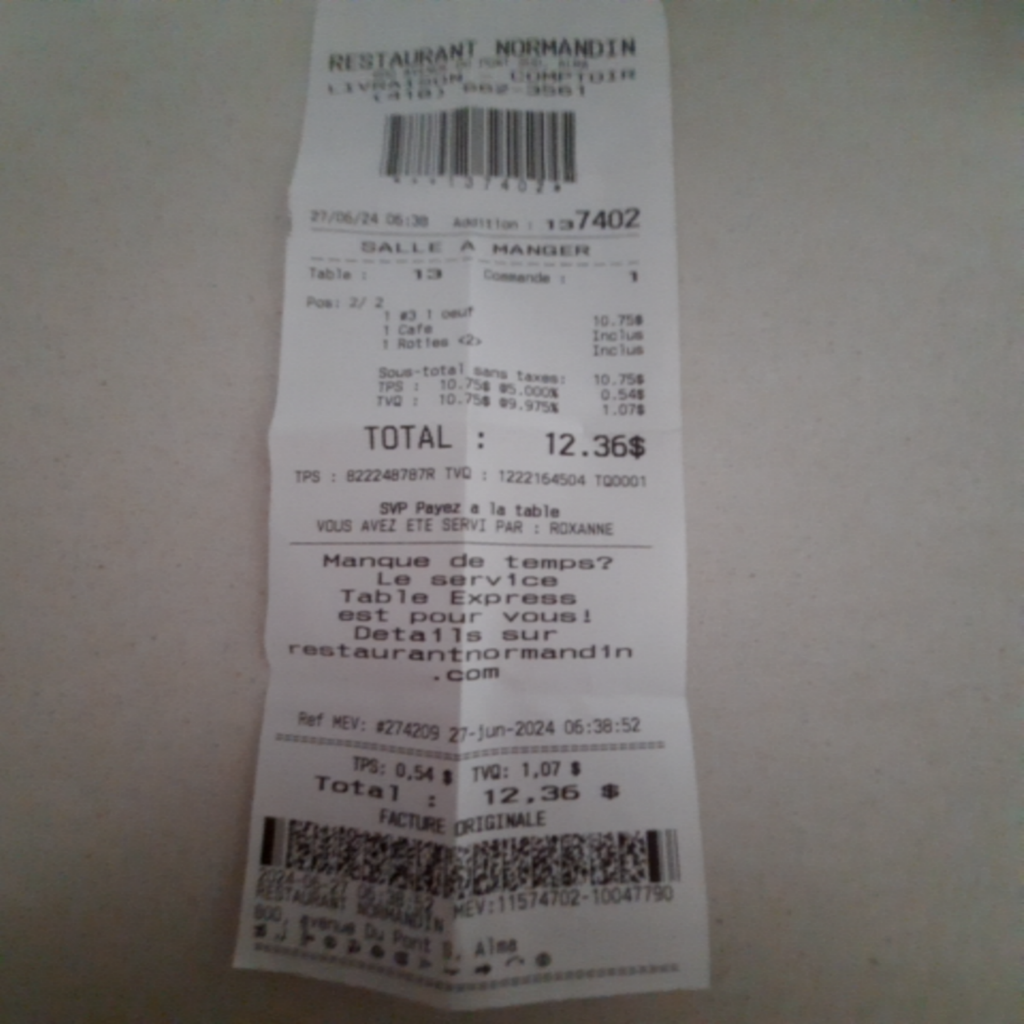recipt: (237, 0, 715, 1005)
